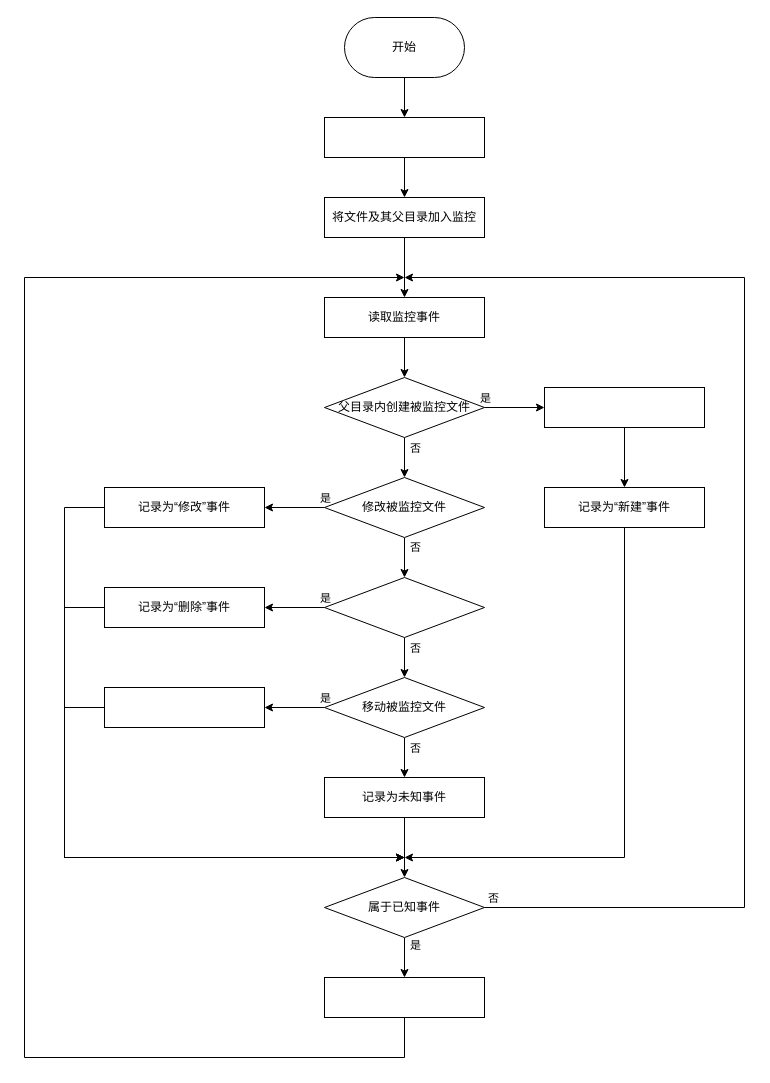
Image size: 770x1083. Some labels were removed from this diagram. Each missing label, with the box of its shape:
删除被监控文件: (324, 576, 484, 638)
向插件接口上报事件: (324, 976, 484, 1018)
更新目标监控文件: (544, 386, 704, 428)
记录为“移动”事件: (104, 686, 264, 728)
读取监控文件列表: (324, 116, 484, 158)
